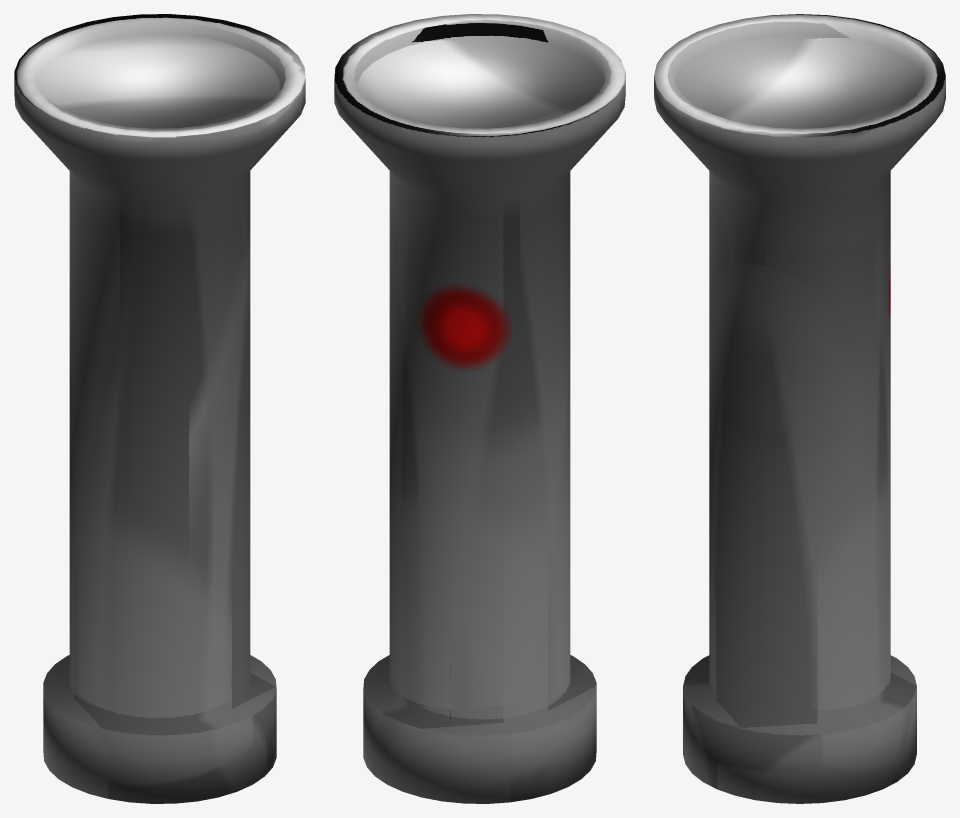
The model's file is torch.obj.
3 renders of one model, left to right at view 1: azimuth 30°, elevation 25°; view 2: azimuth 150°, elevation 25°; view 3: azimuth 270°, elevation 25°, orthographic.
Visible parts, largest first — view 1: Cylinder2_default; view 2: Cylinder2_default; view 3: Cylinder2_default.
Part boxes in pixels (left/top/right/bottom): Cylinder2_default: left=14, top=14, right=305, bottom=803; Cylinder2_default: left=334, top=14, right=625, bottom=803; Cylinder2_default: left=654, top=14, right=945, bottom=803.
Size of the model in its own units: 3.22 by 8.49 by 3.22.
